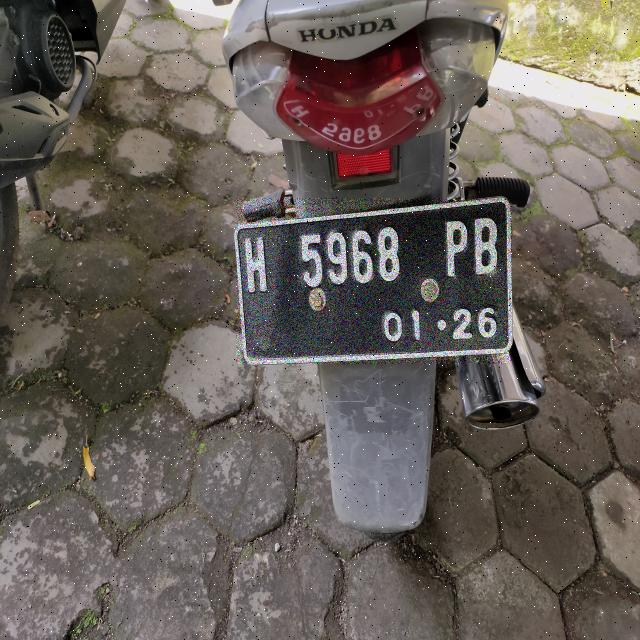plate: (236, 198, 511, 363)
